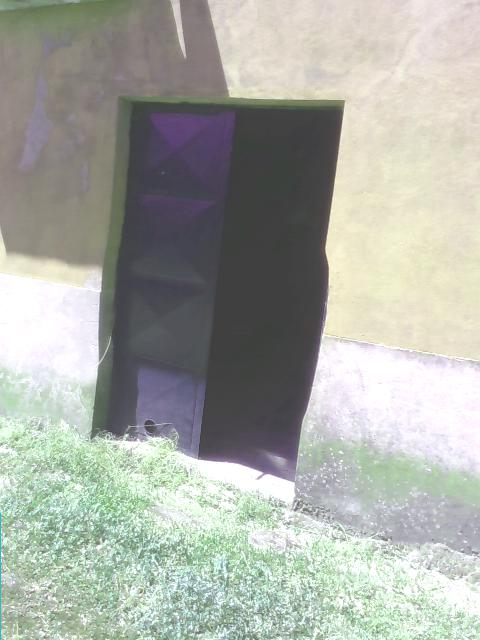open_door: (90, 93, 348, 507)
